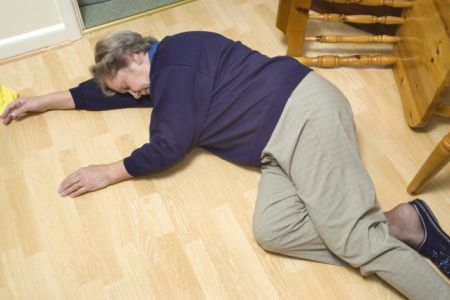collapsed: (2, 2, 450, 298)
